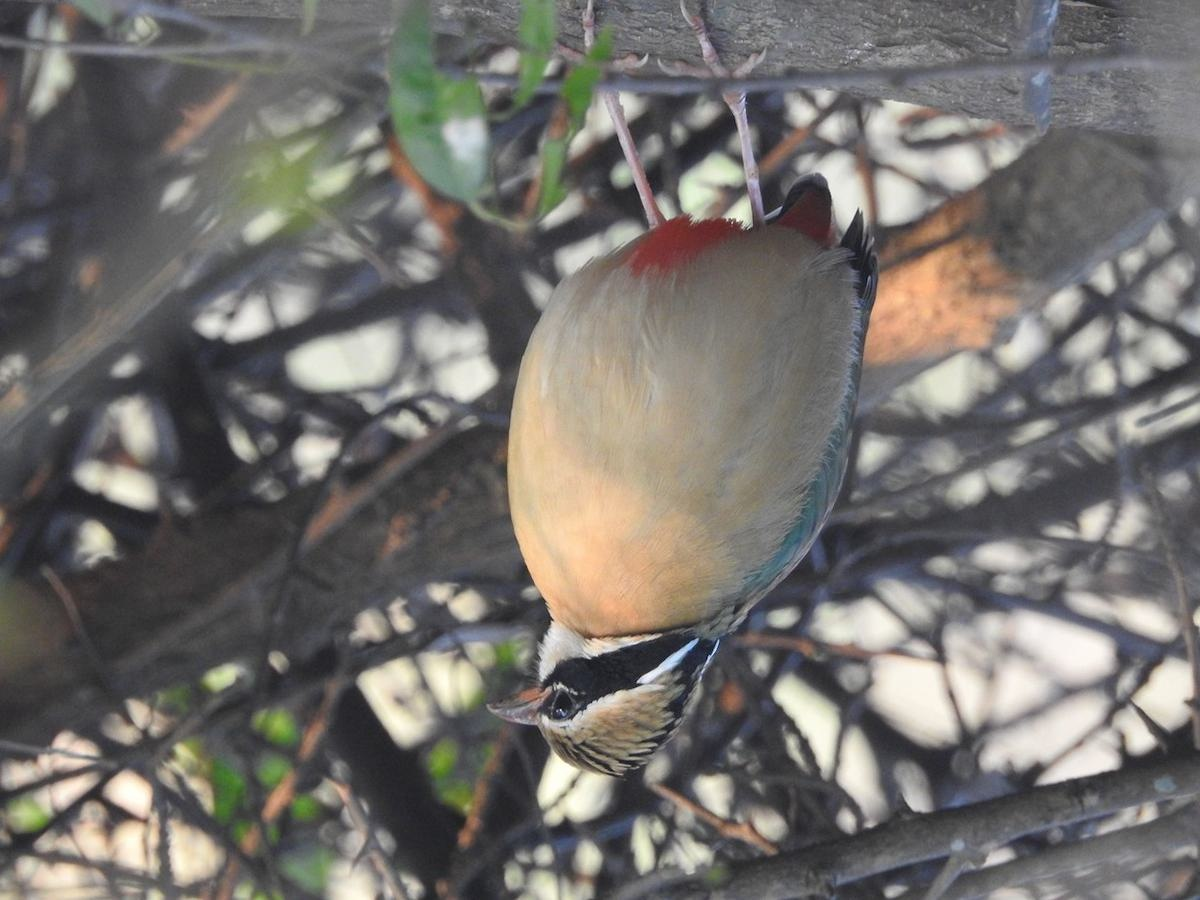pitta: (437, 205, 874, 788)
